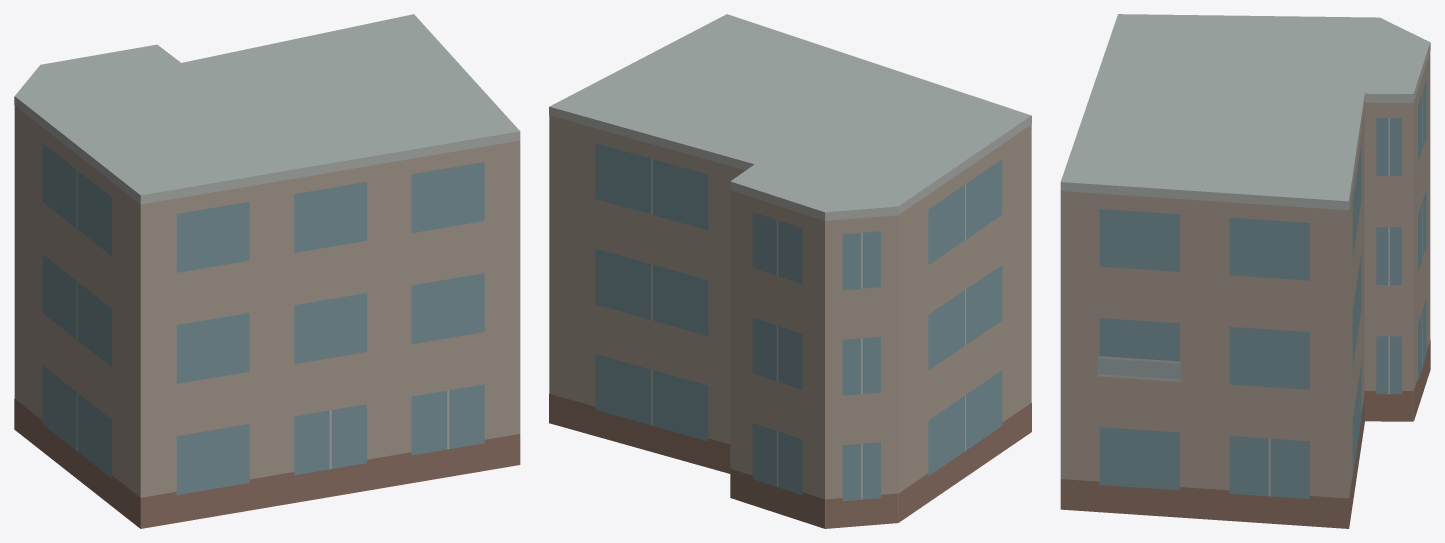
Rendered from survey-upis-32477528.glb.
3 renders of one model, left to right at view 1: azimuth 30°, elevation 25°; view 2: azimuth 150°, elevation 25°; view 3: azimuth 270°, elevation 25°, orthographic. The views are drawn at different scales.
Parts seen in each view (by area): view 1: survey-upis-32477528.tmp; view 2: survey-upis-32477528.tmp; view 3: survey-upis-32477528.tmp.
Part boxes in pixels (x1,y1,x2,y2): survey-upis-32477528.tmp: [14, 14, 520, 528]; survey-upis-32477528.tmp: [549, 14, 1031, 528]; survey-upis-32477528.tmp: [1060, 14, 1430, 528].
Size of the model in its own units: 10.93 by 8.9 by 9.12.
